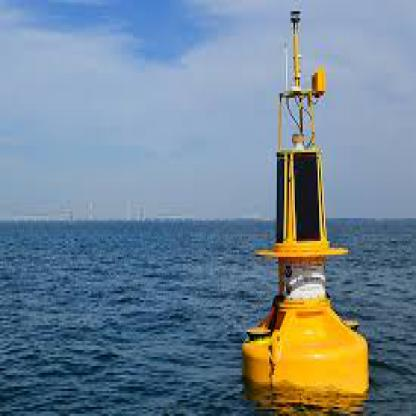buoy: (233, 0, 380, 409)
